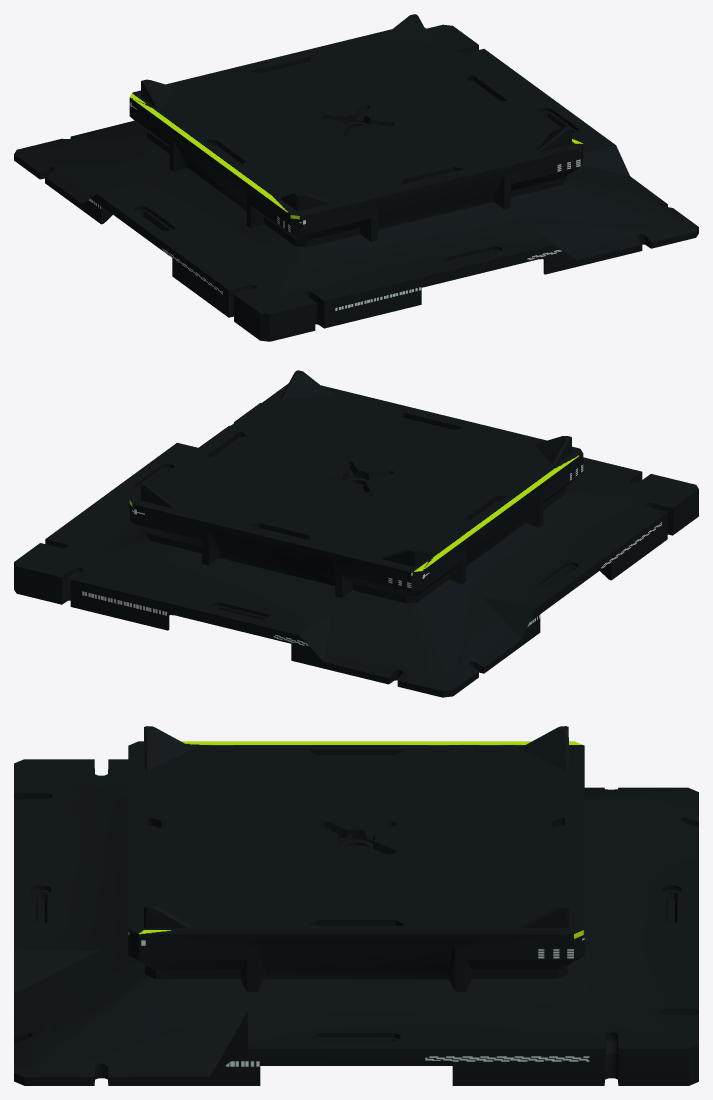
3 renders of one model, top to bottom at view 1: azimuth 30°, elevation 25°; view 2: azimuth 150°, elevation 25°; view 3: azimuth 270°, elevation 25°, orthographic. The views are drawn at different scales.
Parts seen in each view (by area): view 1: base; view 2: base; view 3: base.
Boxes of the visible parts, <box> form: base: <box>14,14,698,341</box>; base: <box>14,370,698,697</box>; base: <box>14,726,698,1085</box>.
Bounding box in the file's own units: 75 × 15 × 75.
Materials: 1 (1 with a texture image).
